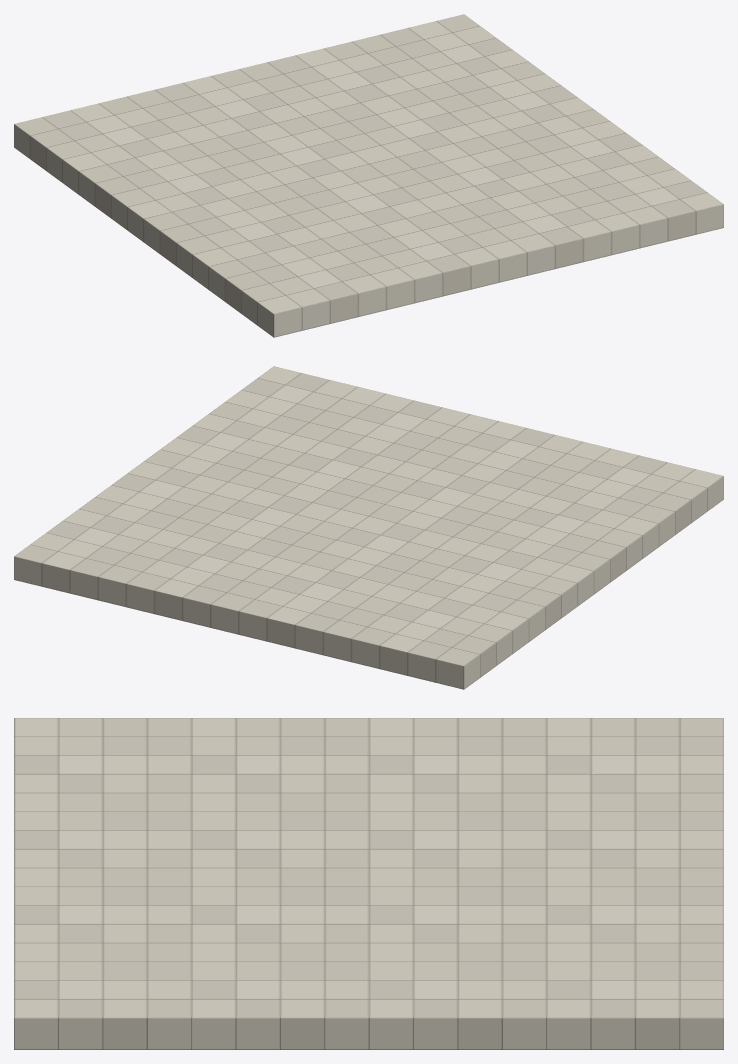
File: MOD_45_Ceiling_SoftLit.fbx
3 views of the same model, one above another, from view 1: azimuth 30°, elevation 25°; view 2: azimuth 150°, elevation 25°; view 3: azimuth 270°, elevation 25° (orthographic). The views are drawn at different scales.
Parts seen in each view (by area): view 1: MOD_45_Ceiling_SoftLit_Export; view 2: MOD_45_Ceiling_SoftLit_Export; view 3: MOD_45_Ceiling_SoftLit_Export.
Part boxes in pixels (bbox=[...]): MOD_45_Ceiling_SoftLit_Export: bbox=[14, 14, 723, 337]; MOD_45_Ceiling_SoftLit_Export: bbox=[14, 366, 723, 689]; MOD_45_Ceiling_SoftLit_Export: bbox=[14, 718, 723, 1049].
Bounding box in the file's own units: 400 × 21 × 400.
Materials: 2 (1 with a texture image).
